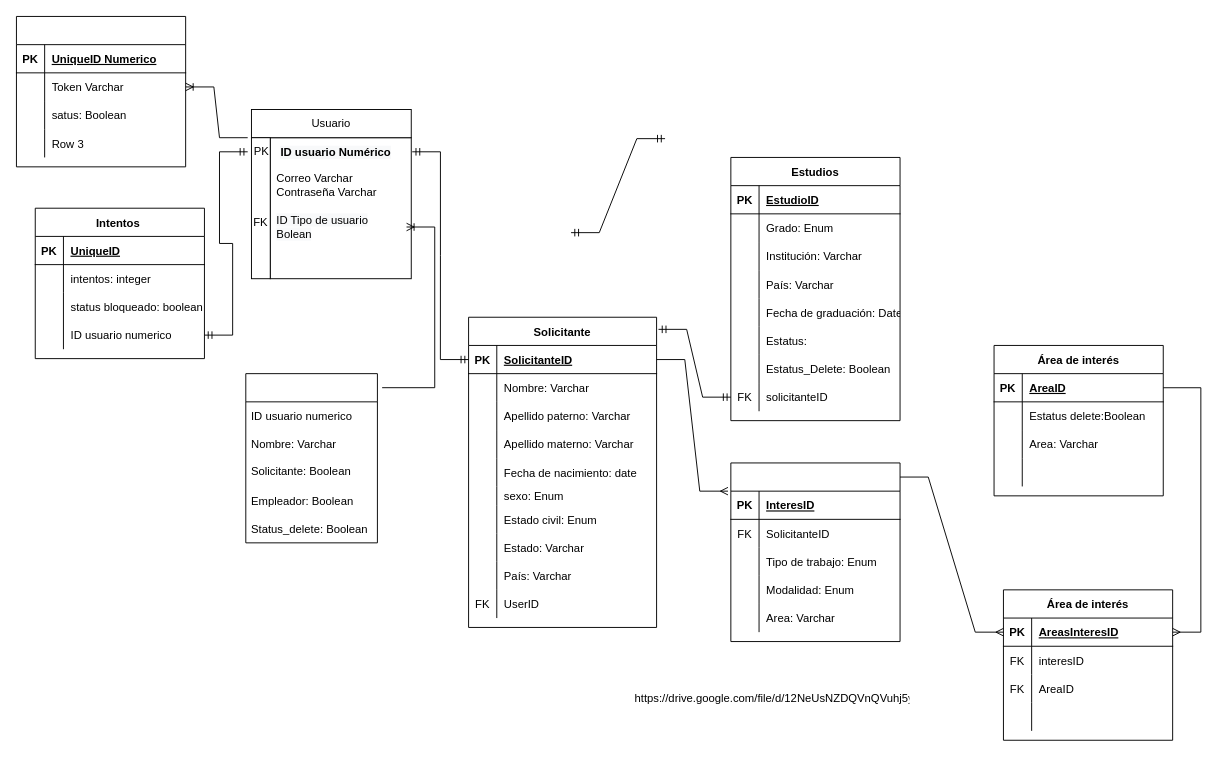
The diagram is 1225 pixels wide and 757 high, and some of its shapes have lost their labels. Here are the shapes that lost their labels. From the top down, the box of each, then its label:
(16, 16, 186, 167): Solicitudes
(245, 373, 377, 543): Tipo de usuario
(730, 462, 900, 642): Intereses
